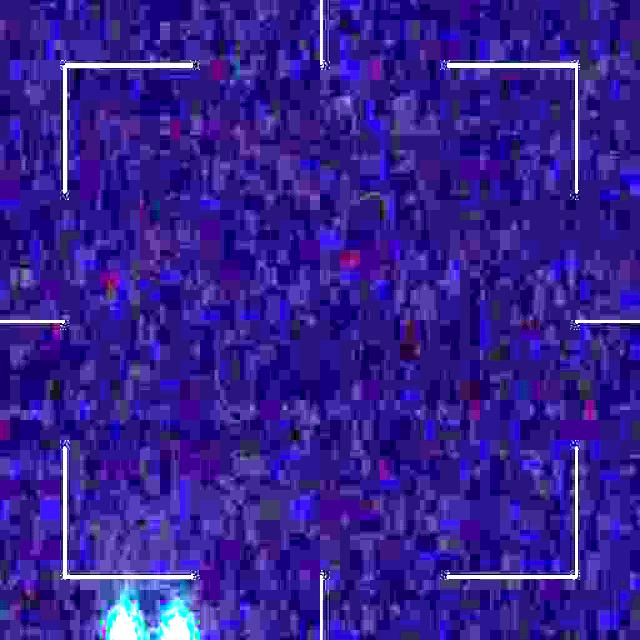bird: (111, 606, 194, 640)
